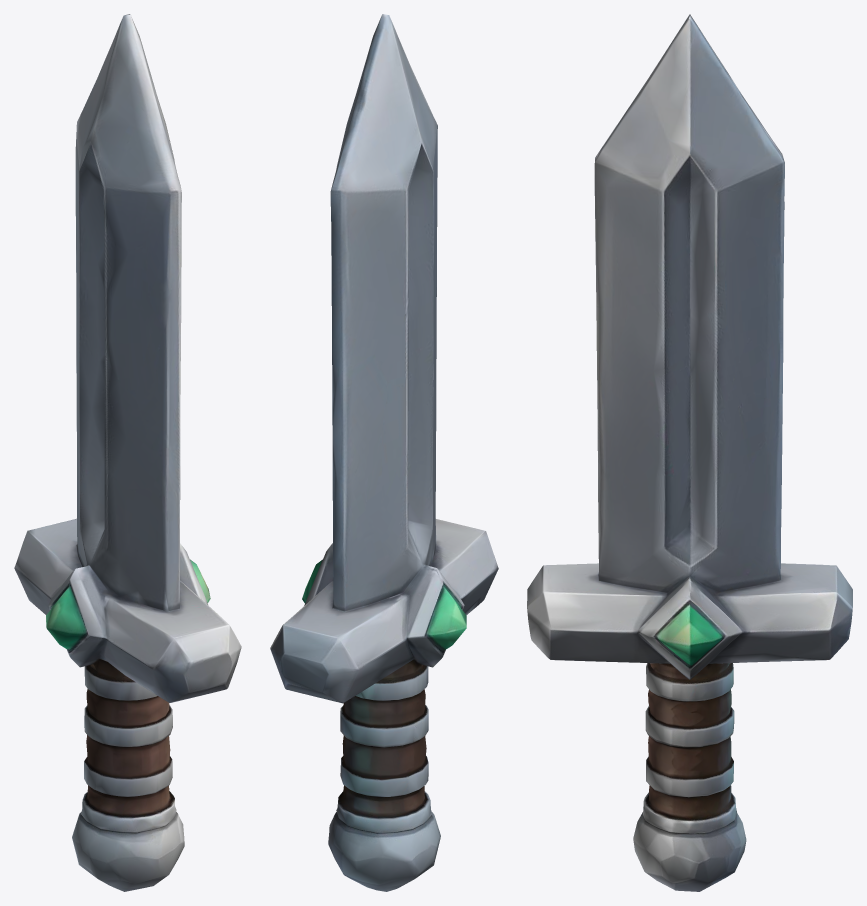
File: w_steel--dagger.glb
3 views of the same model, side by side, from view 1: azimuth 30°, elevation 25°; view 2: azimuth 150°, elevation 25°; view 3: azimuth 270°, elevation 25° (orthographic).
Visible parts, largest first — view 1: Weapon; view 2: Weapon; view 3: Weapon.
Part boxes in pixels (x1,y1,x2,y2): Weapon: [14, 14, 241, 891]; Weapon: [270, 14, 498, 891]; Weapon: [527, 14, 852, 891].
Bounding box in the file's own units: 0.1912 × 0.9819 × 0.3343.
1 material, 1 textured.
